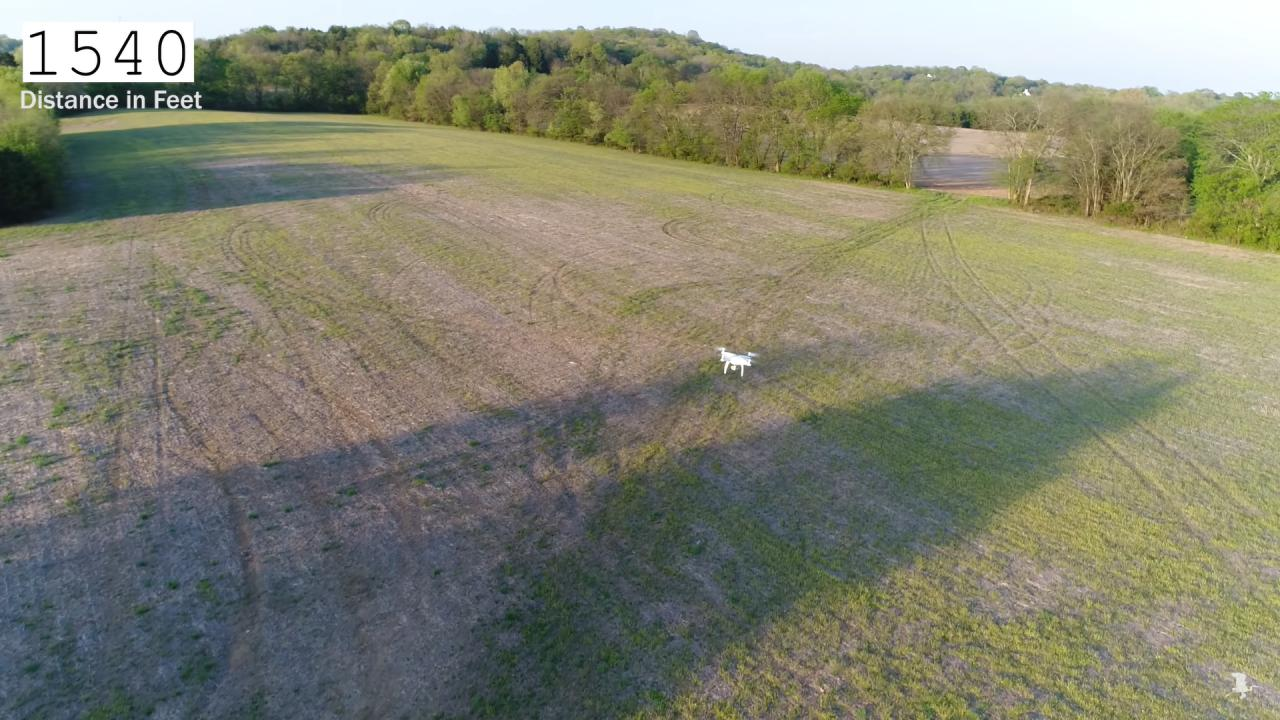Drone: (707, 337, 769, 385)
